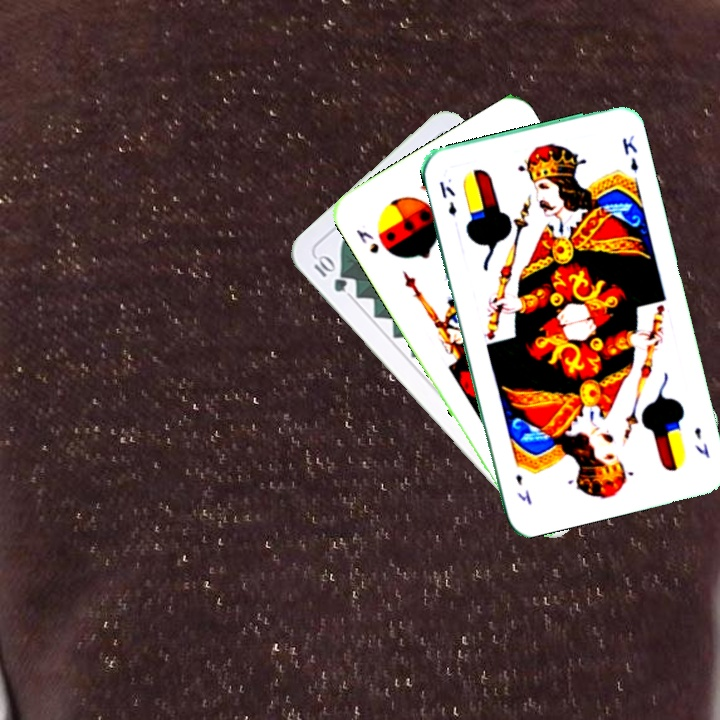EK: (435, 177, 459, 218), (690, 423, 712, 461)
G10: (309, 251, 350, 295)
SK: (352, 225, 382, 257)
